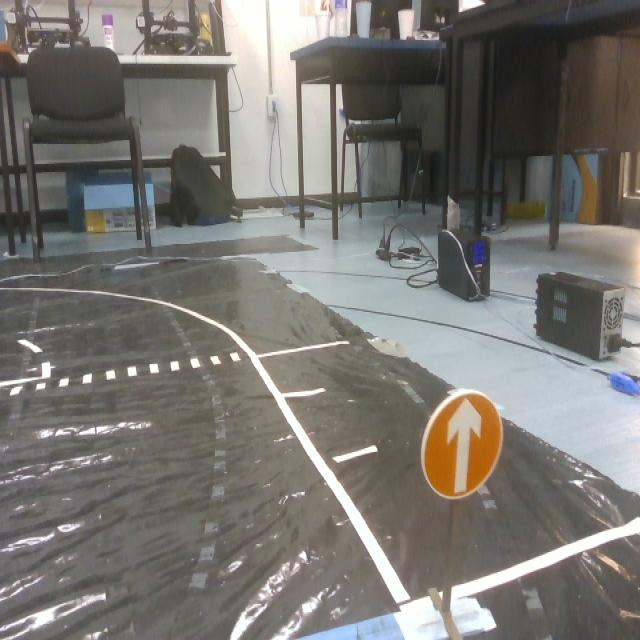right_turn: (422, 390, 498, 498)
